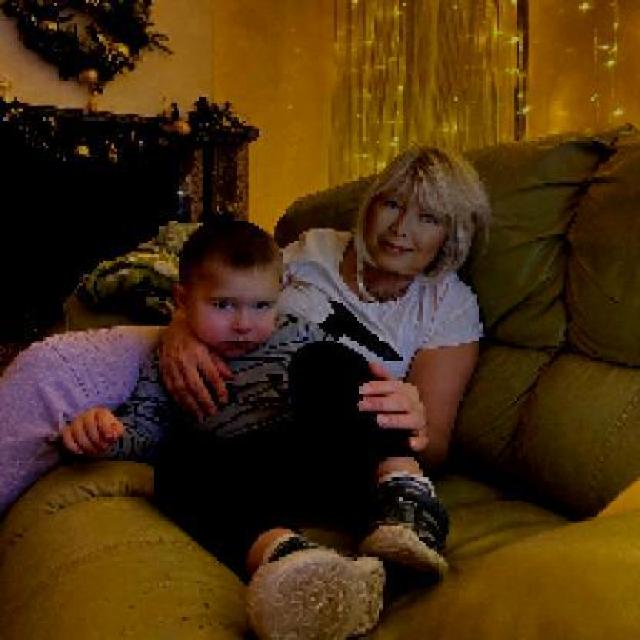child: (60, 214, 449, 637)
